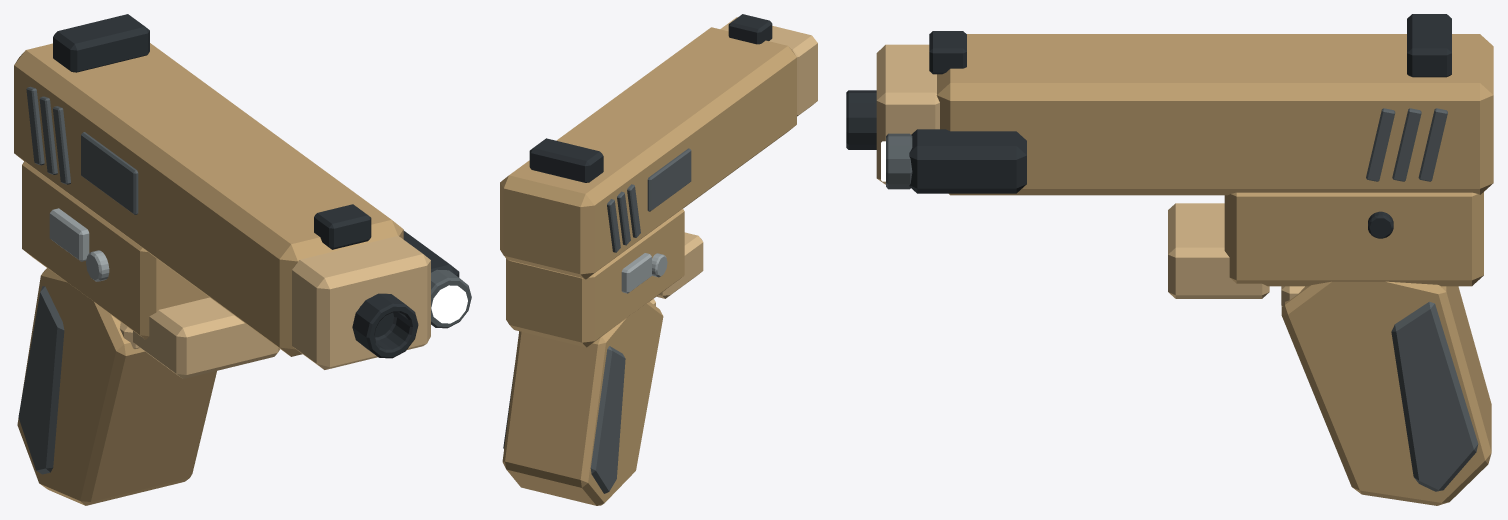
3 views of the same model, side by side, from view 1: azimuth 30°, elevation 25°; view 2: azimuth 150°, elevation 25°; view 3: azimuth 270°, elevation 25° (orthographic). The views are drawn at different scales.
Parts seen in each view (by area): view 1: FTF_Weapon_M17_DesertFlashlight_Mesh, FlashlightGlow; view 2: FTF_Weapon_M17_DesertFlashlight_Mesh; view 3: FTF_Weapon_M17_DesertFlashlight_Mesh.
Boxes of the visible parts, bbox=[...] form: FTF_Weapon_M17_DesertFlashlight_Mesh: bbox=[14, 14, 471, 505]; FlashlightGlow: bbox=[431, 285, 467, 323]; FTF_Weapon_M17_DesertFlashlight_Mesh: bbox=[500, 14, 817, 505]; FTF_Weapon_M17_DesertFlashlight_Mesh: bbox=[846, 14, 1493, 505].
Size of the model in its own units: 0.258 by 0.6609 by 0.86.
